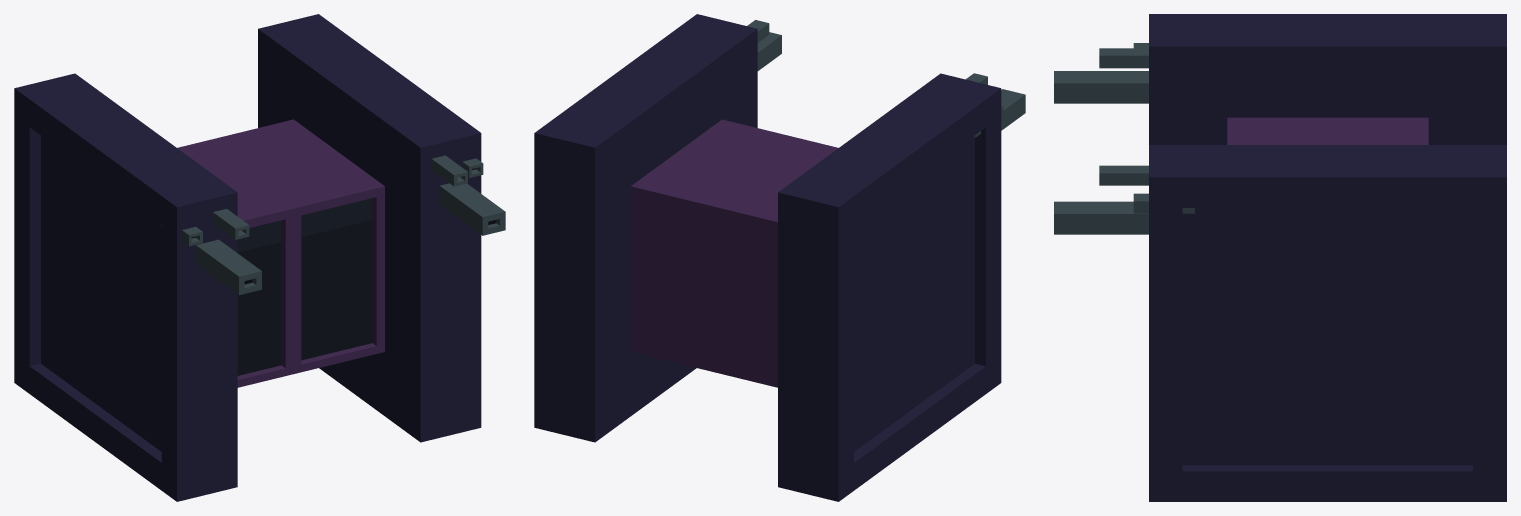
Rendered from spaceship.gltf.
3 renders of one model, left to right at view 1: azimuth 30°, elevation 25°; view 2: azimuth 150°, elevation 25°; view 3: azimuth 270°, elevation 25°, orthographic. The views are drawn at different scales.
Visible parts, largest first — view 1: Cube; view 2: Cube; view 3: Cube.
Part boxes in pixels (bbox=[...]): Cube: bbox=[14, 14, 505, 501]; Cube: bbox=[534, 14, 1025, 501]; Cube: bbox=[1054, 14, 1506, 501].
Bounding box in the file's own units: 3.85 × 3.56 × 4.5.
1 material, 1 textured.
